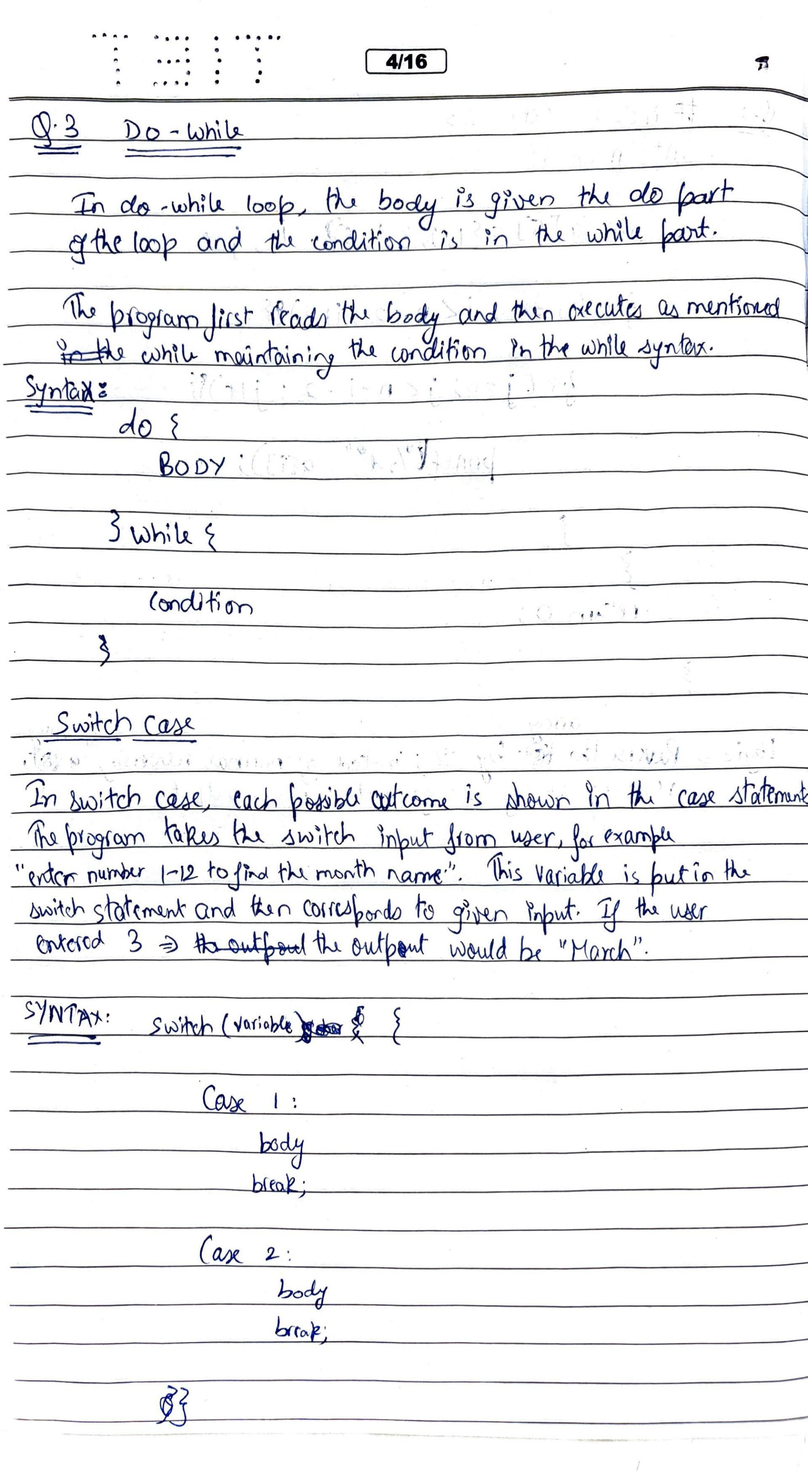cuttings: (191, 930, 308, 969), (52, 336, 126, 369), (298, 1016, 343, 1045), (154, 1383, 179, 1425), (349, 1004, 367, 1046), (396, 939, 408, 960)
